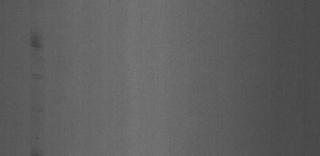oil spot: (26, 31, 49, 49)
